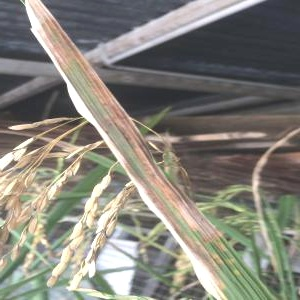Leaf_Blast: (171, 186, 240, 300)
